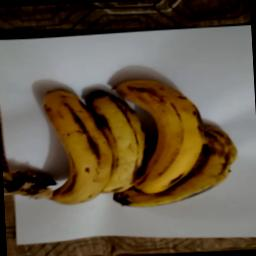Banana Unripe: (112, 64, 238, 210), (4, 76, 118, 210), (89, 74, 148, 204)
